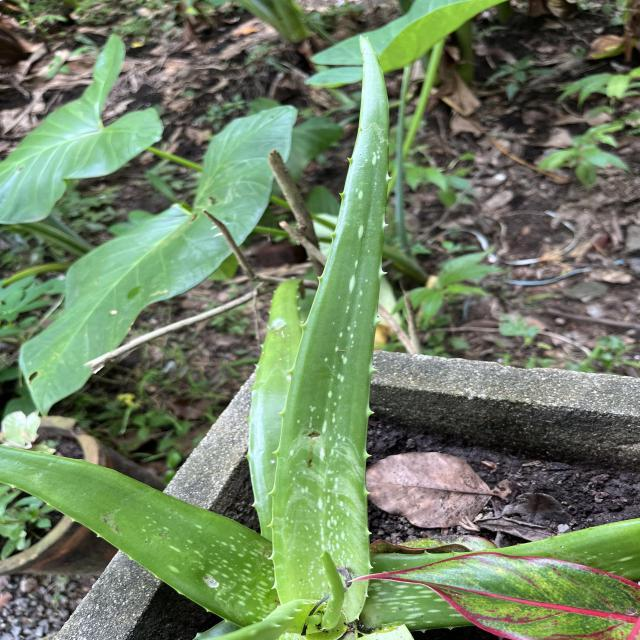Aloe vera: (260, 32, 402, 608)
